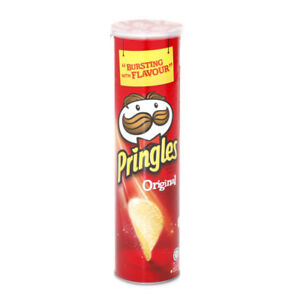pringle: (107, 17, 189, 288)
